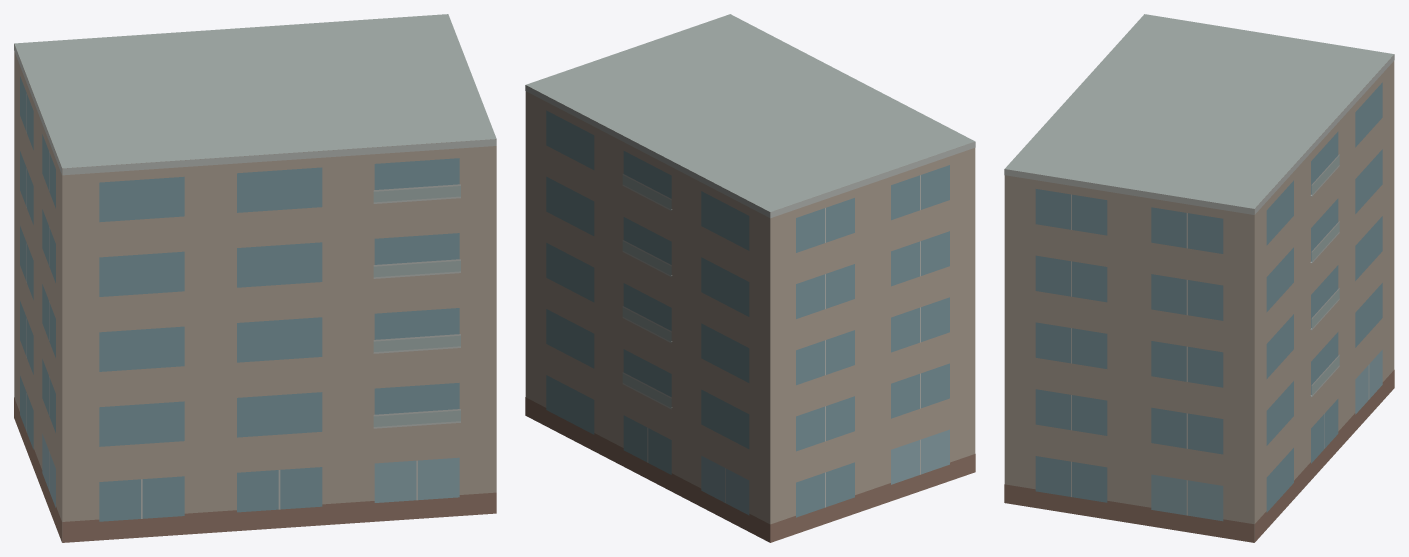
Rendered from survey-upis-32886653.glb.
3 views of the same model, side by side, from view 1: azimuth 30°, elevation 25°; view 2: azimuth 150°, elevation 25°; view 3: azimuth 270°, elevation 25° (orthographic). The views are drawn at different scales.
Parts seen in each view (by area): view 1: survey-upis-32886653.tmp; view 2: survey-upis-32886653.tmp; view 3: survey-upis-32886653.tmp.
Boxes of the visible parts, x1,y1,x2,y2 form: survey-upis-32886653.tmp: (14,14,496,542); survey-upis-32886653.tmp: (525,14,975,542); survey-upis-32886653.tmp: (1004,14,1394,542).
Size of the model in its own units: 16.53 by 13.2 by 13.98.
